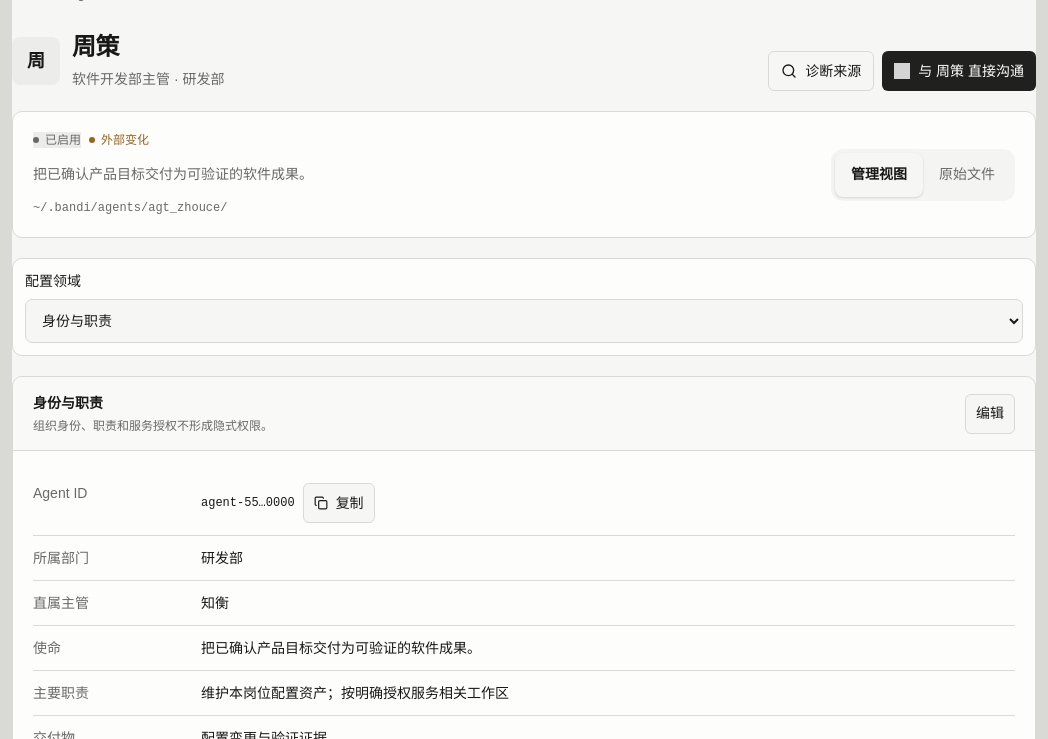
Test: Agent 双模式配置工作台 › 身份页短显示并复制完整 Agent ID
The width and height of the screenshot is (1048, 739).
Click the button with aria-label "复制完整 Agent ID": click(339, 503) [303,483,375,523]
(page scrolled)
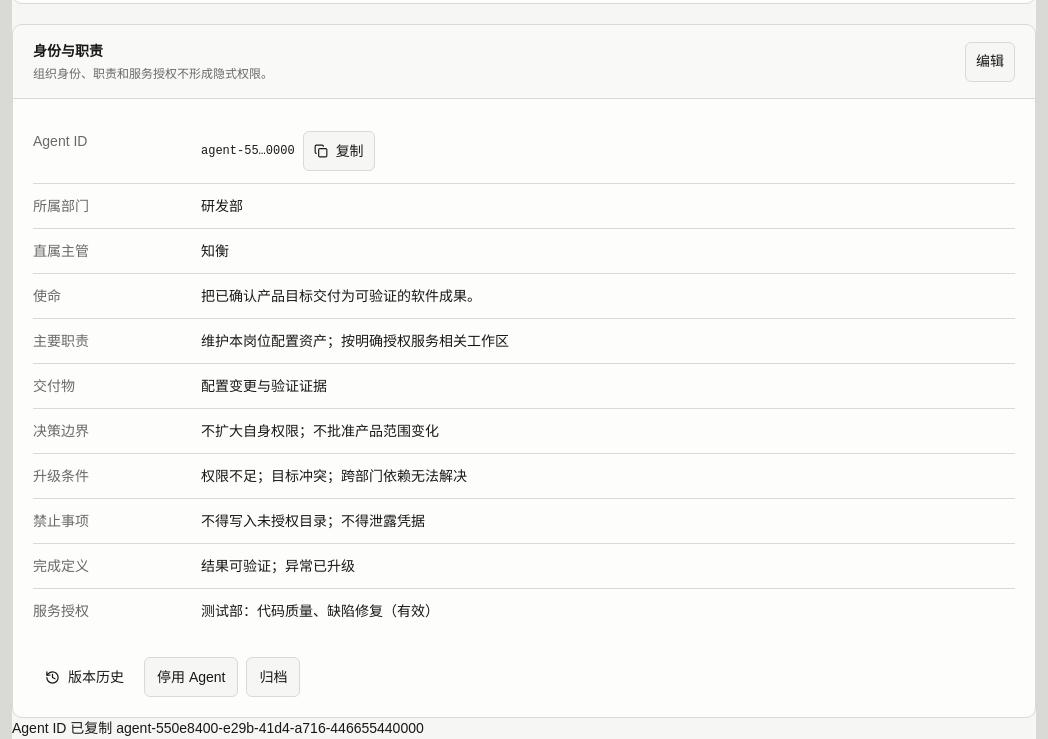
Expected: the message shows "Agent ID 已复制", [12,720,112,736]
